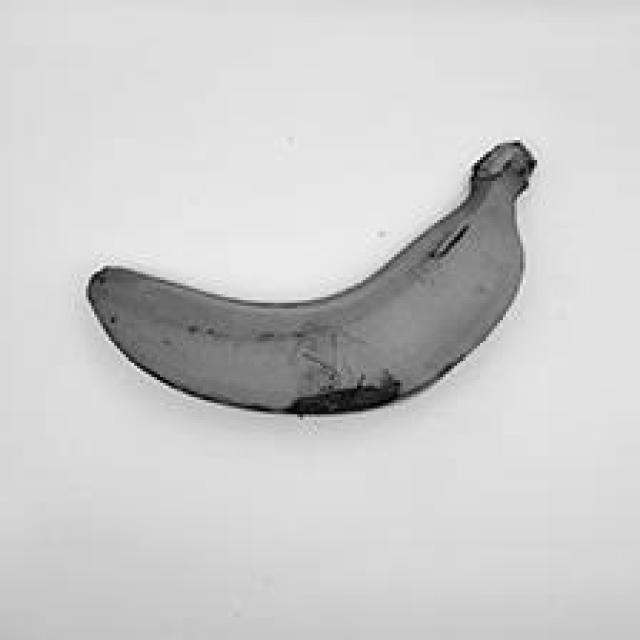Raw: (70, 119, 560, 458)
